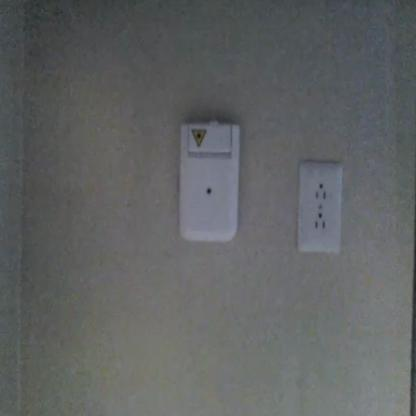OUTLET: (296, 163, 343, 253)
